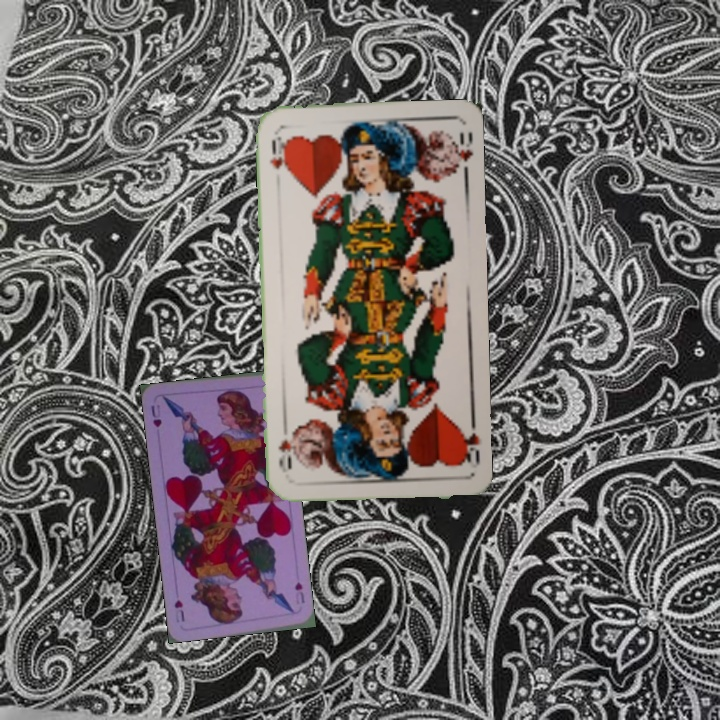HO: (456, 414, 483, 471), (266, 129, 290, 174)
HU: (147, 401, 164, 430), (291, 577, 307, 606)
